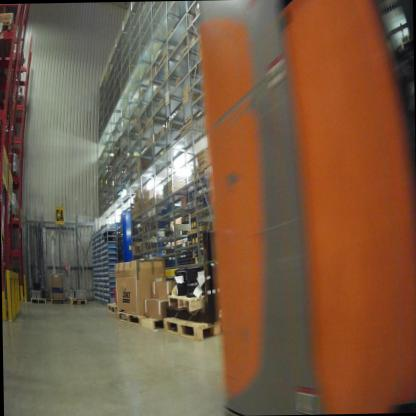forklift: (194, 0, 416, 415)
pallet: (162, 310, 228, 343), (166, 288, 210, 315), (141, 309, 177, 333), (0, 20, 22, 59), (117, 310, 145, 328), (25, 295, 45, 309), (105, 298, 121, 315), (67, 295, 89, 307), (50, 295, 64, 307)
